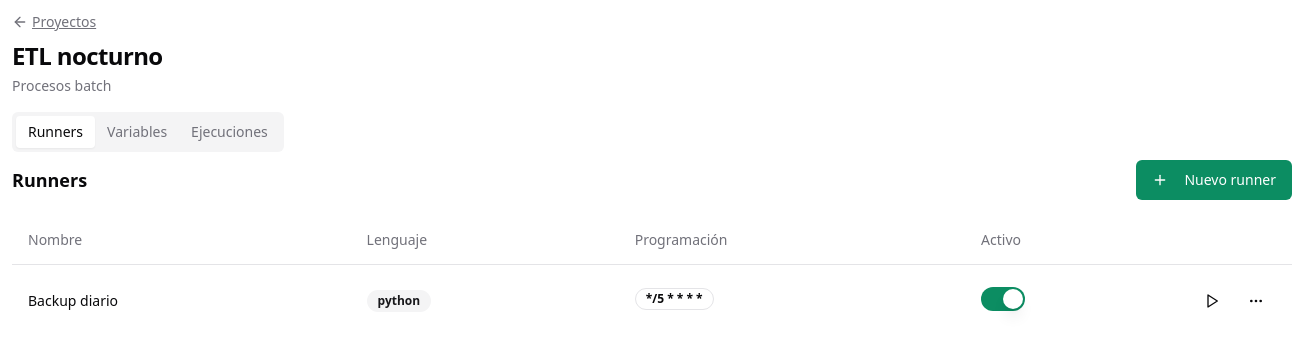
Test: ProjectDetailPage (tab Runners) › el botón de ejecutar se deshabilita mientras la mutación está en curso
Click the button named "Ejecutar Backup diario": (1212, 300) [1192,280,1232,320]
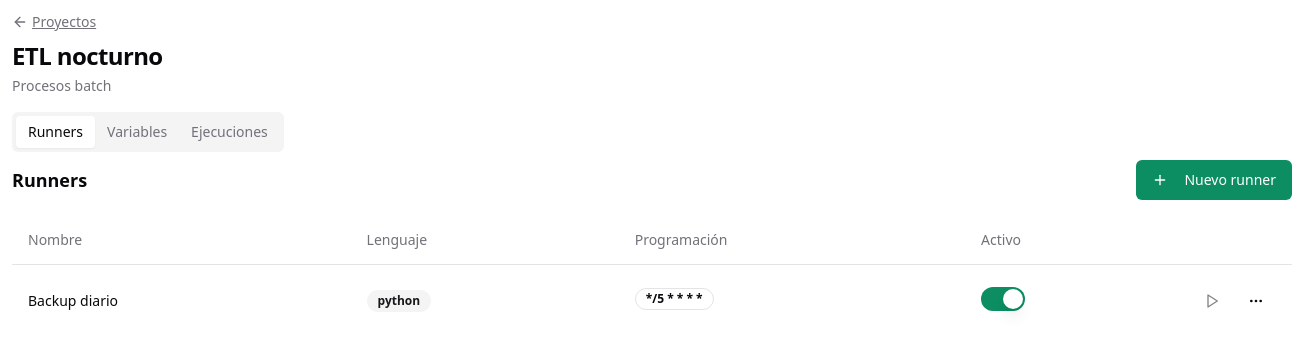
Now the button named "Ejecutar Backup diario" is disabled, box [1192,280,1232,320]
